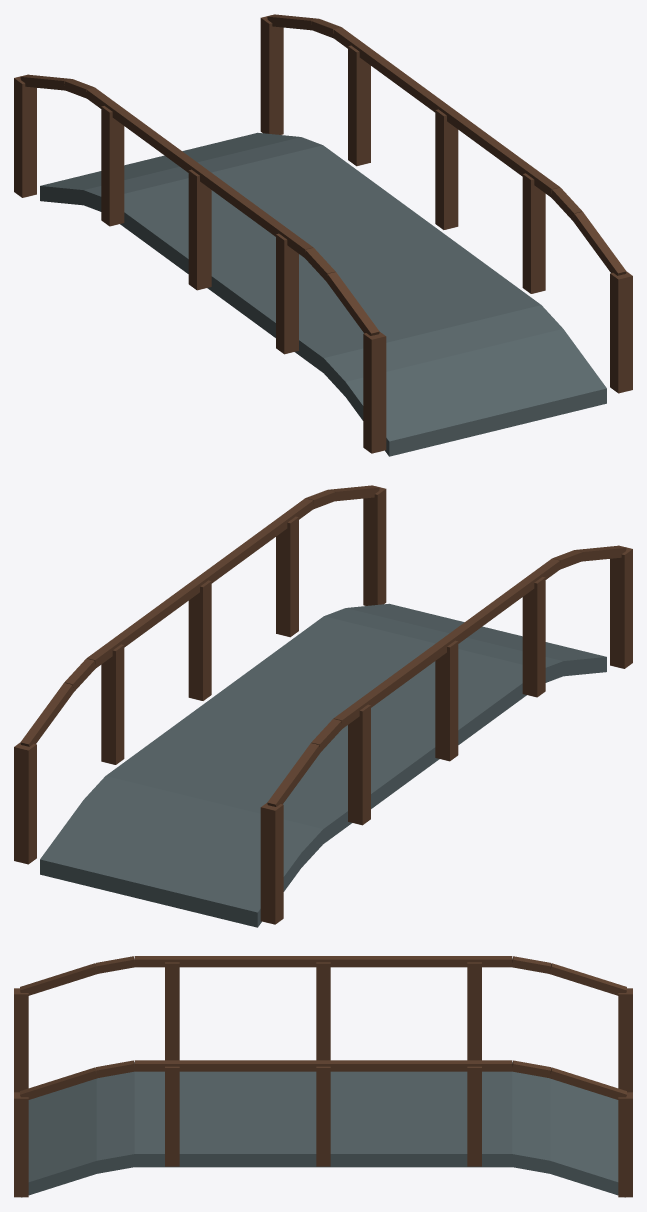
The model's file is PirateCove_Footbridge_Simple.glb.
3 views of the same model, one above another, from view 1: azimuth 30°, elevation 25°; view 2: azimuth 150°, elevation 25°; view 3: azimuth 270°, elevation 25° (orthographic). The views are drawn at different scales.
Parts seen in each view (by area): view 1: PirateCove_Footbridge_Simple; view 2: PirateCove_Footbridge_Simple; view 3: PirateCove_Footbridge_Simple.
Boxes of the visible parts, left/top/right/bottom form: PirateCove_Footbridge_Simple: left=14, top=14, right=632, bottom=456; PirateCove_Footbridge_Simple: left=14, top=485, right=632, bottom=927; PirateCove_Footbridge_Simple: left=14, top=956, right=632, bottom=1197.
Bounding box in the file's own units: 2.16 × 1.29 × 5.12.
